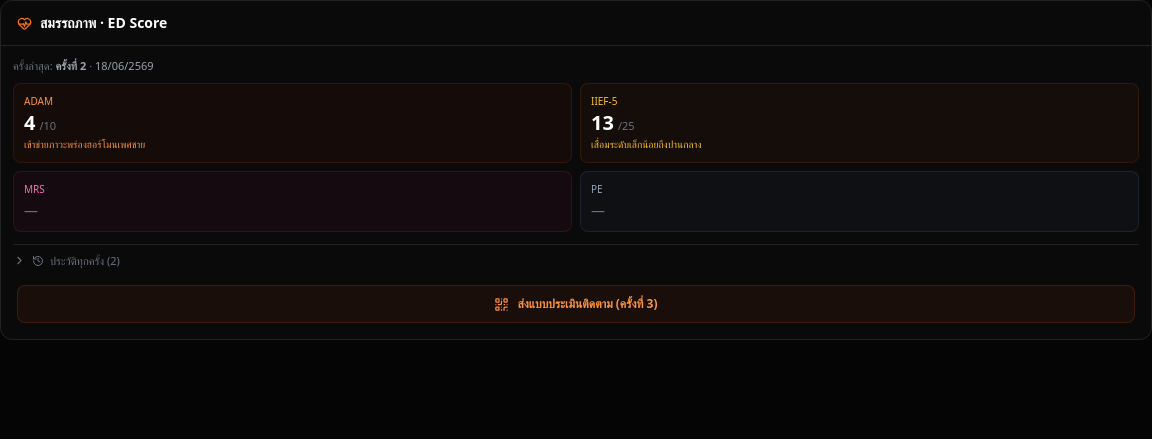
Test case: EDScoreBox round-select › R4 back pill → returns to default (header ครั้งล่าสุด, pill gone)
Step 1. Click the button with test id "ed-history-toggle" → [80, 260], box left=13, top=244, right=1139, bottom=269
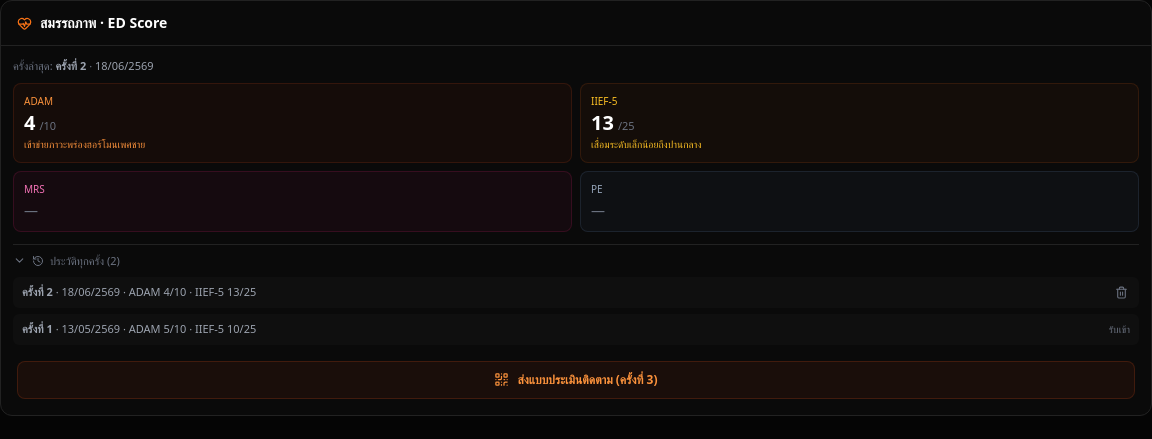
Step 2. Click the button with test id "ed-history-__intake__" → [91, 328], box left=13, top=314, right=1139, bottom=344
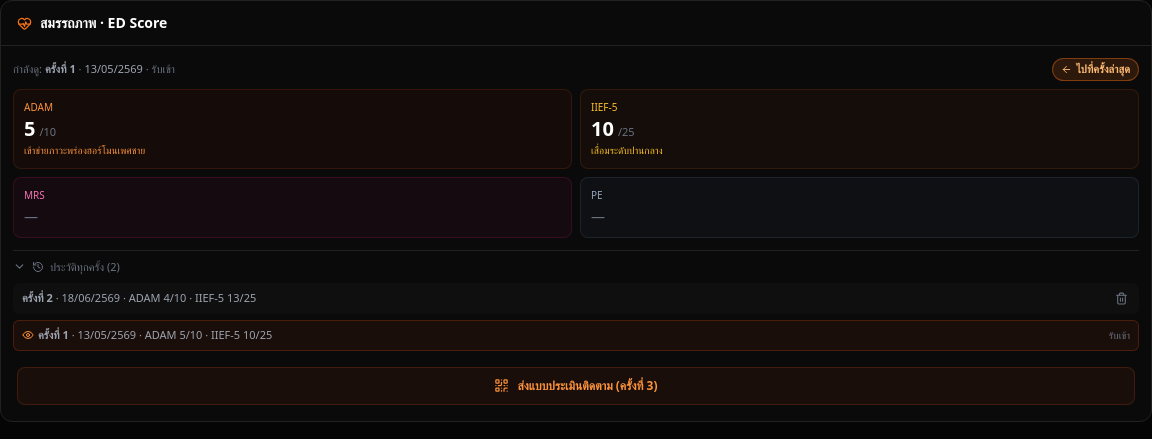
Step 3. Click the button with test id "ed-back-to-latest" → [1096, 69], box left=1052, top=58, right=1139, bottom=80
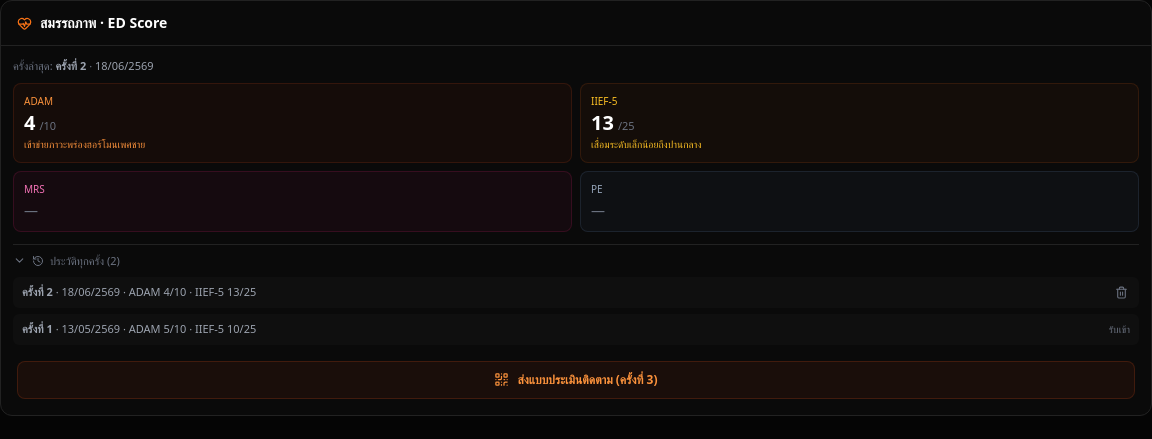
Expected: the text "ครั้งล่าสุด: ครั้งที่ 2 · 18/06/2569" is shown, left=13, top=58, right=154, bottom=74
Expected: the button with test id "ed-back-to-latest" is gone
